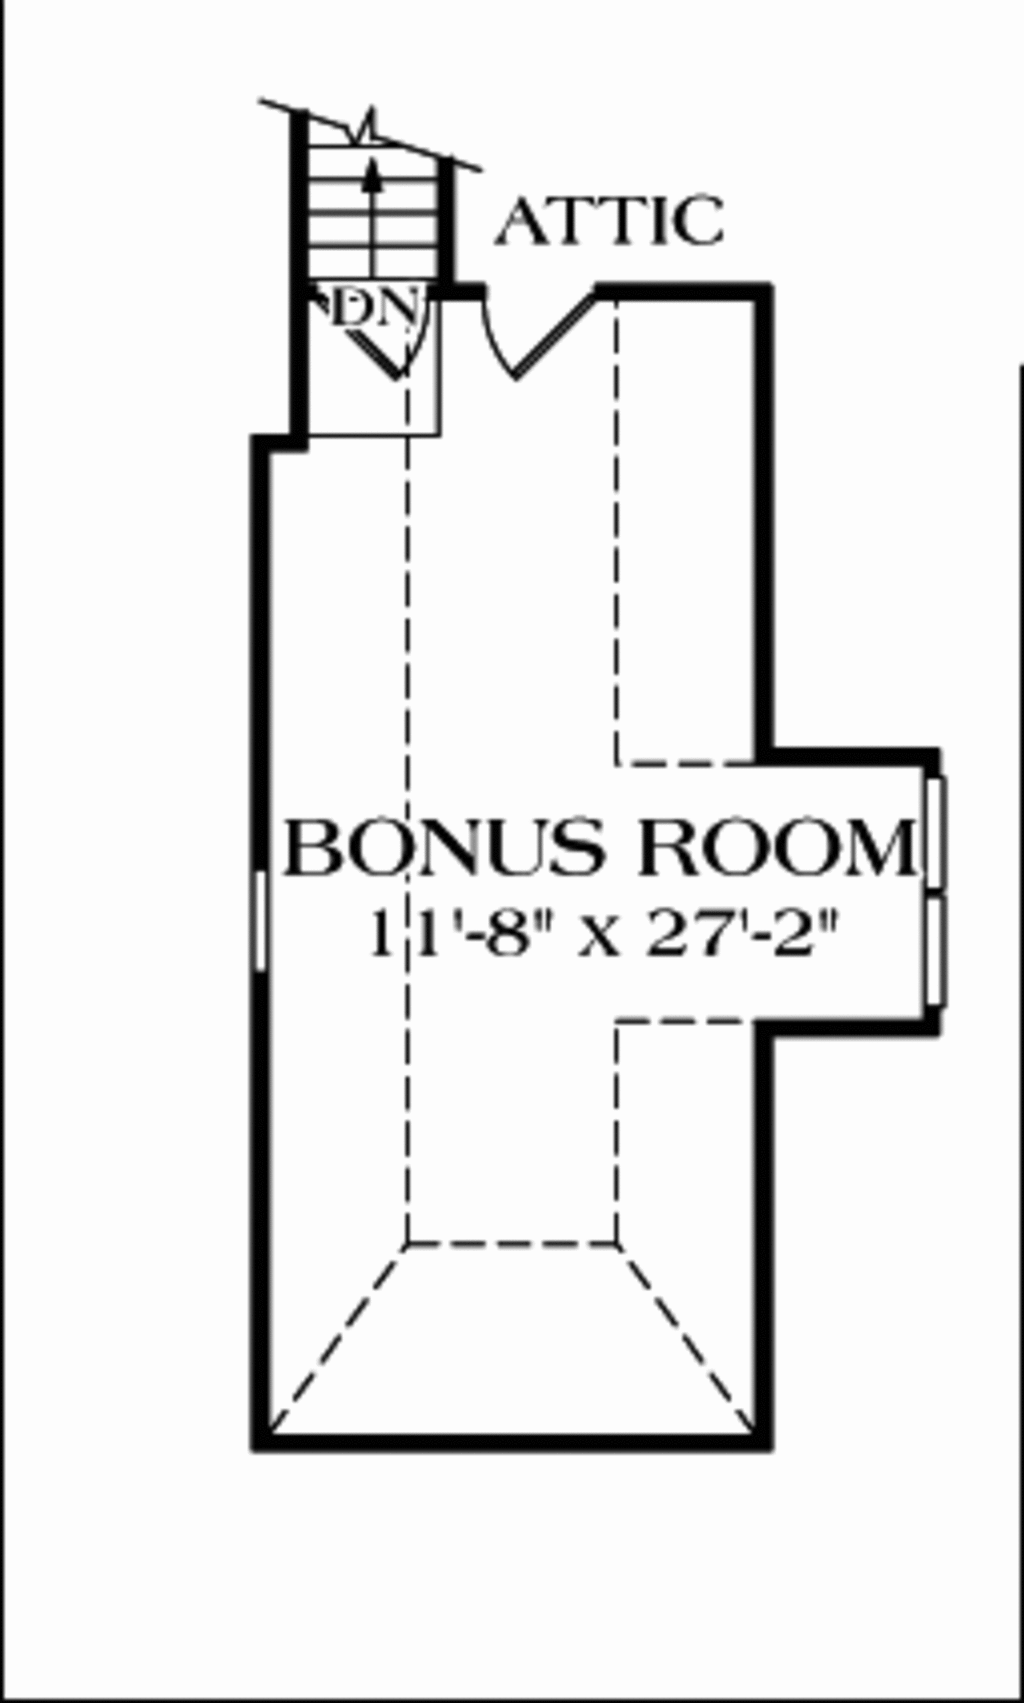door: (458, 266, 629, 387), (317, 282, 466, 380)
stairs: (271, 77, 474, 303)
window: (910, 769, 968, 1011), (231, 859, 300, 982)
